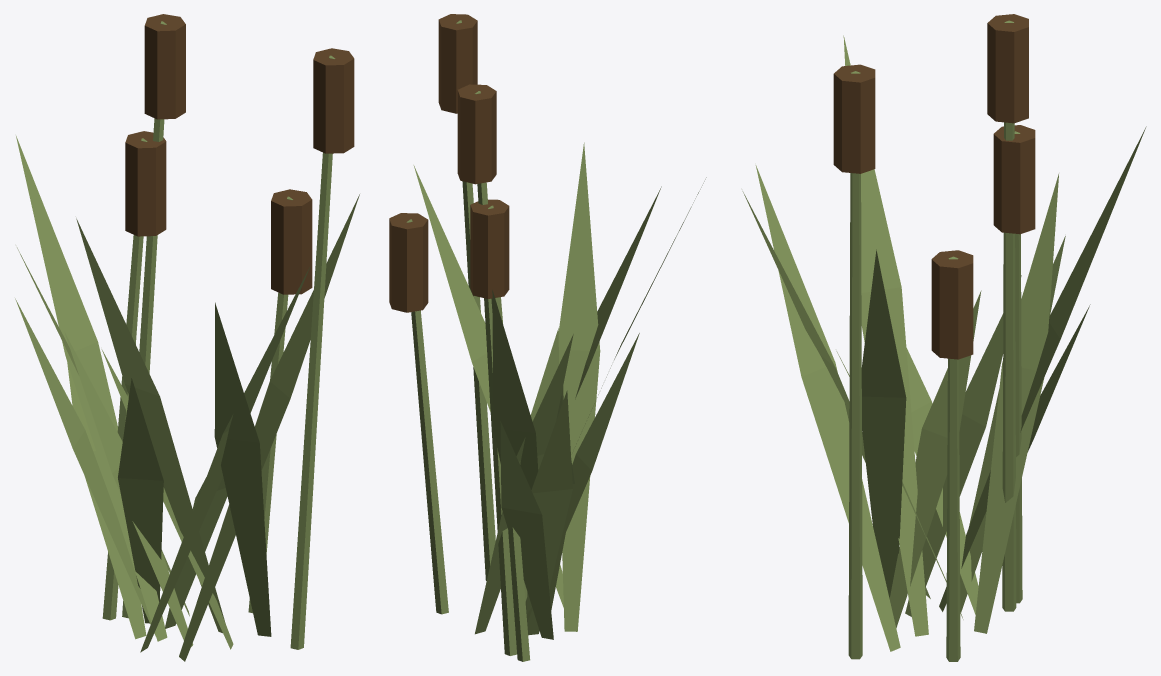
File: SM_Reeds.fbx
3 renders of one model, left to right at view 1: azimuth 30°, elevation 25°; view 2: azimuth 150°, elevation 25°; view 3: azimuth 270°, elevation 25°, orthographic. The views are drawn at different scales.
Visible parts, largest first — view 1: SM_Reeds; view 2: SM_Reeds; view 3: SM_Reeds.
Part boxes in pixels (x1,y1,x2,y2): SM_Reeds: [15, 14, 359, 661]; SM_Reeds: [389, 14, 706, 661]; SM_Reeds: [742, 14, 1146, 661].
Bounding box in the file's own units: 0.8199 × 0.9263 × 1.52.
